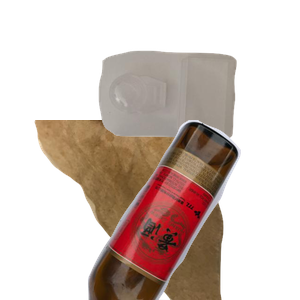glass: (85, 120, 300, 300)
metal: (102, 60, 252, 169)
plastic: (96, 48, 300, 179)
trash: (32, 120, 248, 300)
